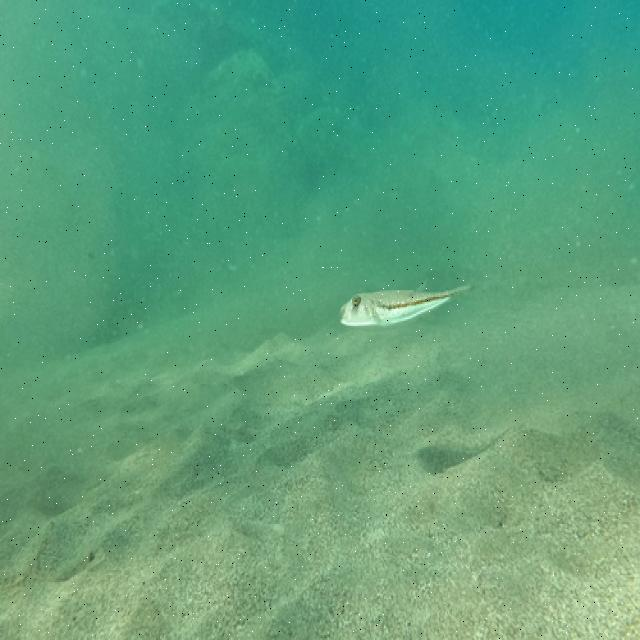Balik: (341, 287, 469, 325)
